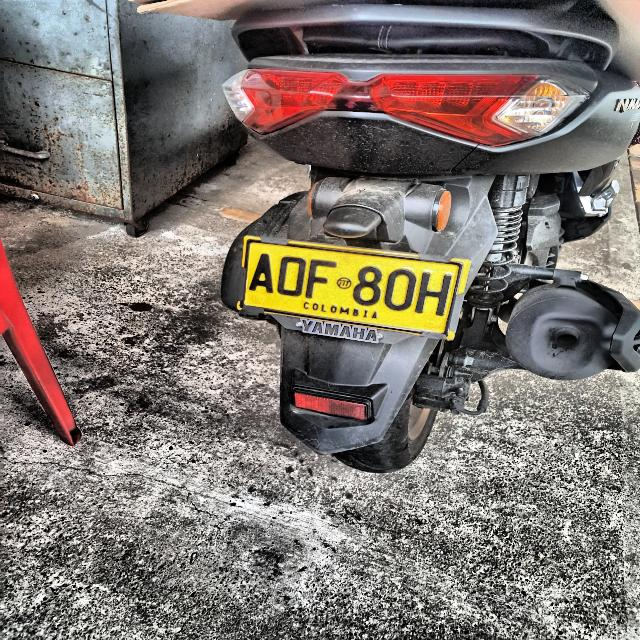plate: (239, 237, 467, 338)
